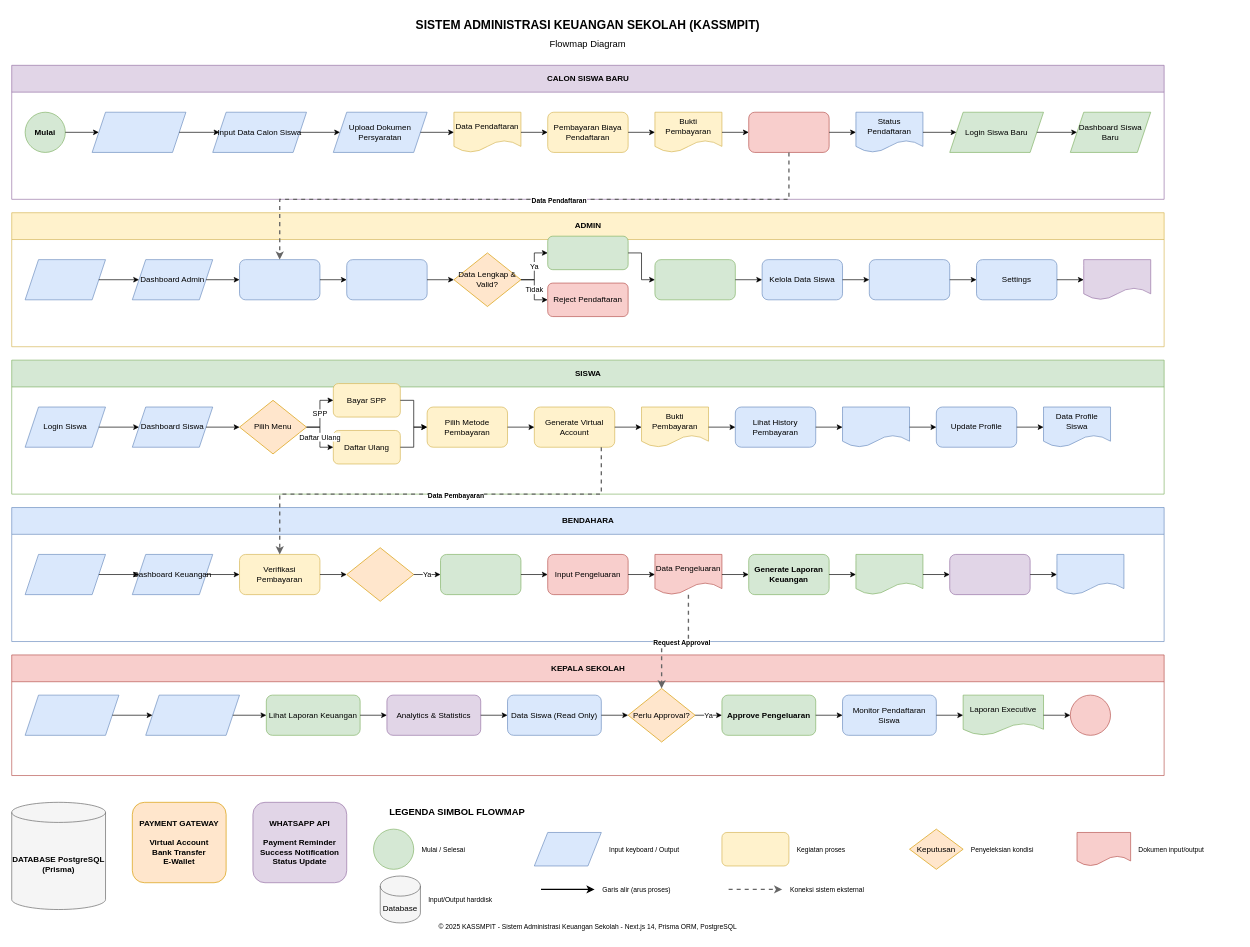
Some shapes in this 1250 by 947 pixel diagram are drawn without their labels. The centre of each missing label's shape, as x and y in pixels:
"Approve Pendaftaran" belongs at pixel 587 253.
"Dashboard Executive" belongs at pixel 192 714.
"Dokumen" belongs at pixel 1103 849.
"Form Pendaftaran Online" belongs at pixel 138 132.
"History Transaksi" belongs at pixel 1090 574.
"Input/Output" belongs at pixel 567 849.
"Kelola User & Role" belongs at pixel 909 279.
"Kirim Reminder WhatsApp" belongs at pixel 989 574.
"Konversi ke Data Siswa" belongs at pixel 694 279.
"Laporan Activity Log" belongs at pixel 1117 279.
"Laporan Keuangan" belongs at pixel 889 574.
"Laporan Transaksi" belongs at pixel 876 426.
"Lihat Data Calon Siswa" belongs at pixel 279 279.
"Login Admin" belongs at pixel 65 279.
"Login Bendahara" belongs at pixel 65 574.
"Login Kepala Sekolah" belongs at pixel 71 714.
"Menunggu Persetujuan" belongs at pixel 788 132.
"Pembayaran Valid?" belongs at pixel 380 574.
"Proses" belongs at pixel 755 849.
"Selesai" belongs at pixel 1090 714.
"Terminator" belongs at pixel 393 848.
"Update Status Pembayaran" belongs at pixel 480 574.
"Verifikasi Dokumen" belongs at pixel 386 279.
